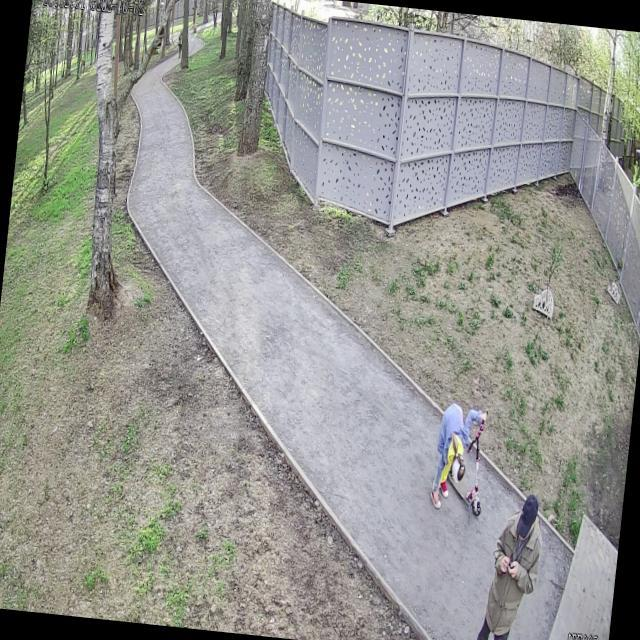person: (471, 489, 546, 640)
